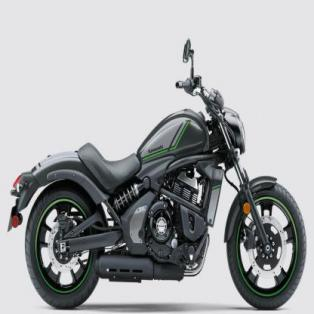Motocicleta: (6, 36, 308, 310)
